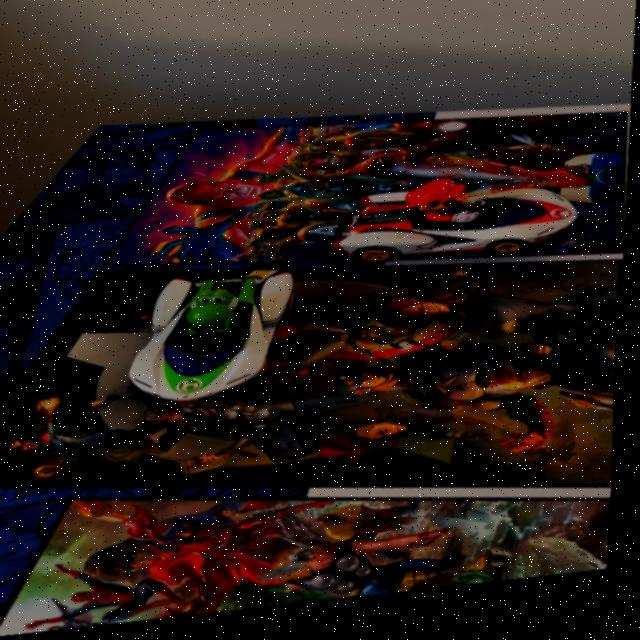mario: (323, 175, 601, 287)
yoshi: (120, 262, 310, 422)
